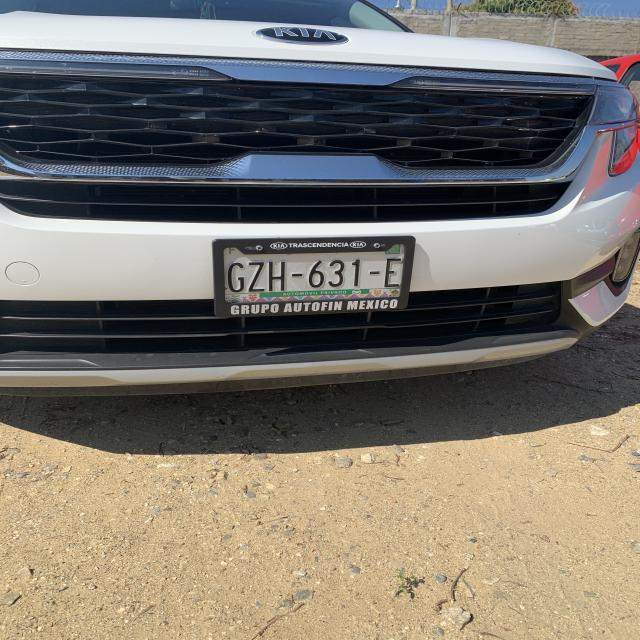placa: (222, 254, 408, 291)
